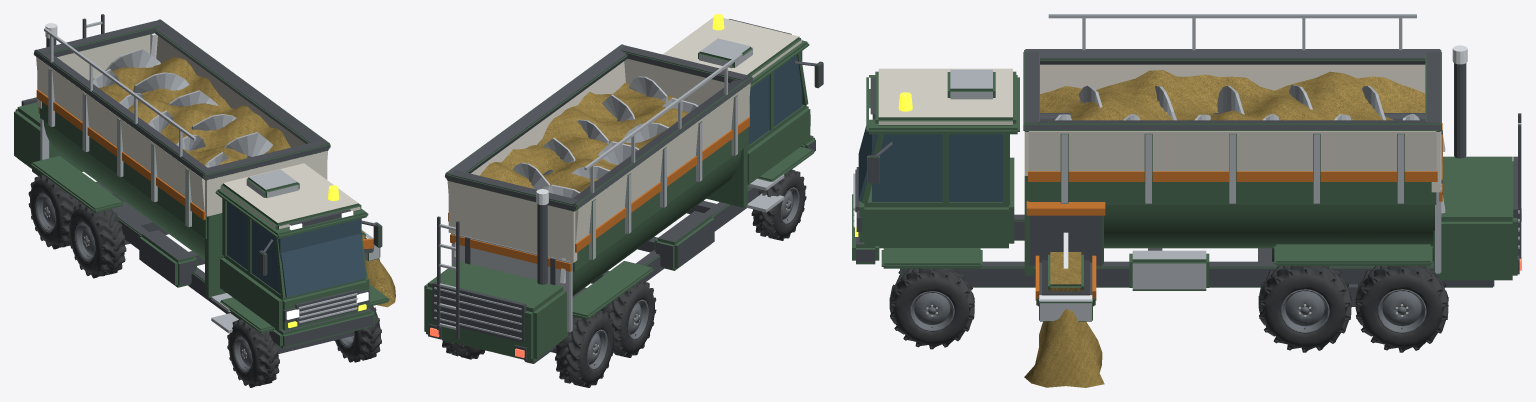
The model's file is tmr_truck.glb.
3 views of the same model, side by side, from view 1: azimuth 30°, elevation 25°; view 2: azimuth 150°, elevation 25°; view 3: azimuth 270°, elevation 25° (orthographic). The views are drawn at different scales.
Parts seen in each view (by area): view 1: TMR_Body, Wheel_RR1, Auger_L, Wheel_FR, Wheel_RR2, Wheel_FL, Auger_R, Pour_Stream; view 2: TMR_Body, Wheel_RR2, Gate_Rear, Wheel_RR1, Wheel_FR, Auger_L, Auger_R, Wheel_RL2; view 3: TMR_Body, Wheel_RL1, Wheel_RL2, Wheel_FL, Pour_Stream, Auger_R, Gate_Rear, Auger_L.
Part boxes in pixels (x1,y1,x2,y2): TMR_Body: (14,14,389,353); Wheel_RR1: (68,203,126,278); Auger_L: (105,48,272,157); Wheel_FR: (227,319,279,387); Wheel_RR2: (28,175,81,249); Wheel_FL: (334,306,381,362); Auger_R: (93,69,228,167); Pour_Stream: (365,258,395,307); TMR_Body: (424,14,823,363); Wheel_RR2: (555,310,615,387); Gate_Rear: (450,233,572,332); Wheel_RR1: (600,280,656,357); Wheel_FR: (751,169,806,240); Auger_L: (513,76,667,189); Auger_R: (547,97,698,198); Wheel_RL2: (442,340,485,359); TMR_Body: (852,14,1521,321); Wheel_RL1: (1258,266,1351,352); Wheel_RL2: (1355,266,1448,352); Wheel_FL: (889,268,974,349); Pour_Stream: (1024,309,1104,387); Auger_R: (1040,85,1425,120); Gate_Rear: (1435,123,1442,273); Auger_L: (1055,114,1419,120).
Bounding box in the file's own units: 4.58 × 4.47 × 10.37.
Materials: 16 (1 with a texture image).
